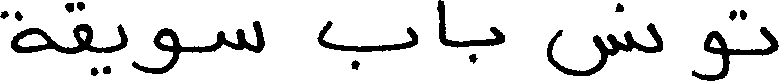ا: (436, 0, 447, 47)
ب: (318, 19, 418, 70), (467, 24, 504, 62)
ة: (0, 8, 54, 53)
ت: (728, 11, 777, 56)
س: (545, 26, 633, 76), (217, 18, 265, 53)
ق: (62, 0, 92, 56)
ن: (617, 0, 663, 53)
و: (691, 13, 728, 79), (131, 26, 179, 74)
ي: (91, 22, 128, 78)
